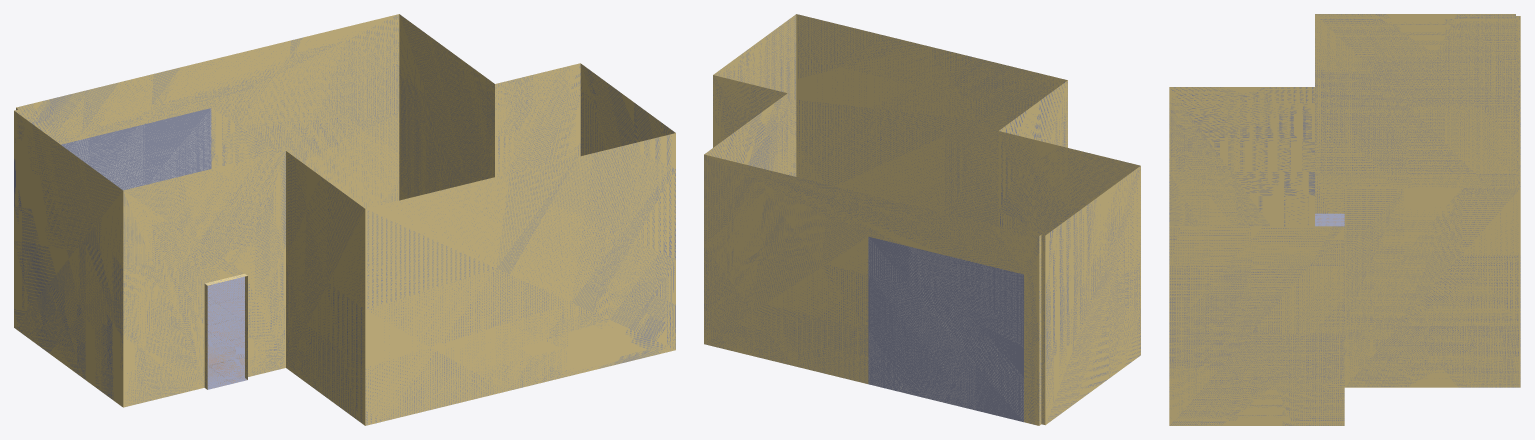
Rendered from CUA003.obj.
The picture shows the model from 3 angles, left to right: view 1: azimuth 30°, elevation 25°; view 2: azimuth 150°, elevation 25°; view 3: azimuth 270°, elevation 25°; orthographic projection. The views are drawn at different scales.
Visible parts, largest first — view 1: Mesh1 CUA003 Model; view 2: Mesh1 CUA003 Model; view 3: Mesh1 CUA003 Model.
Part boxes in pixels (x1,y1,x2,y2): Mesh1 CUA003 Model: (14,14,675,425); Mesh1 CUA003 Model: (704,14,1140,425); Mesh1 CUA003 Model: (1169,14,1520,425).
Bounding box in the file's own units: 9.38 × 4.11 × 6.56.
4 materials, 1 textured.
